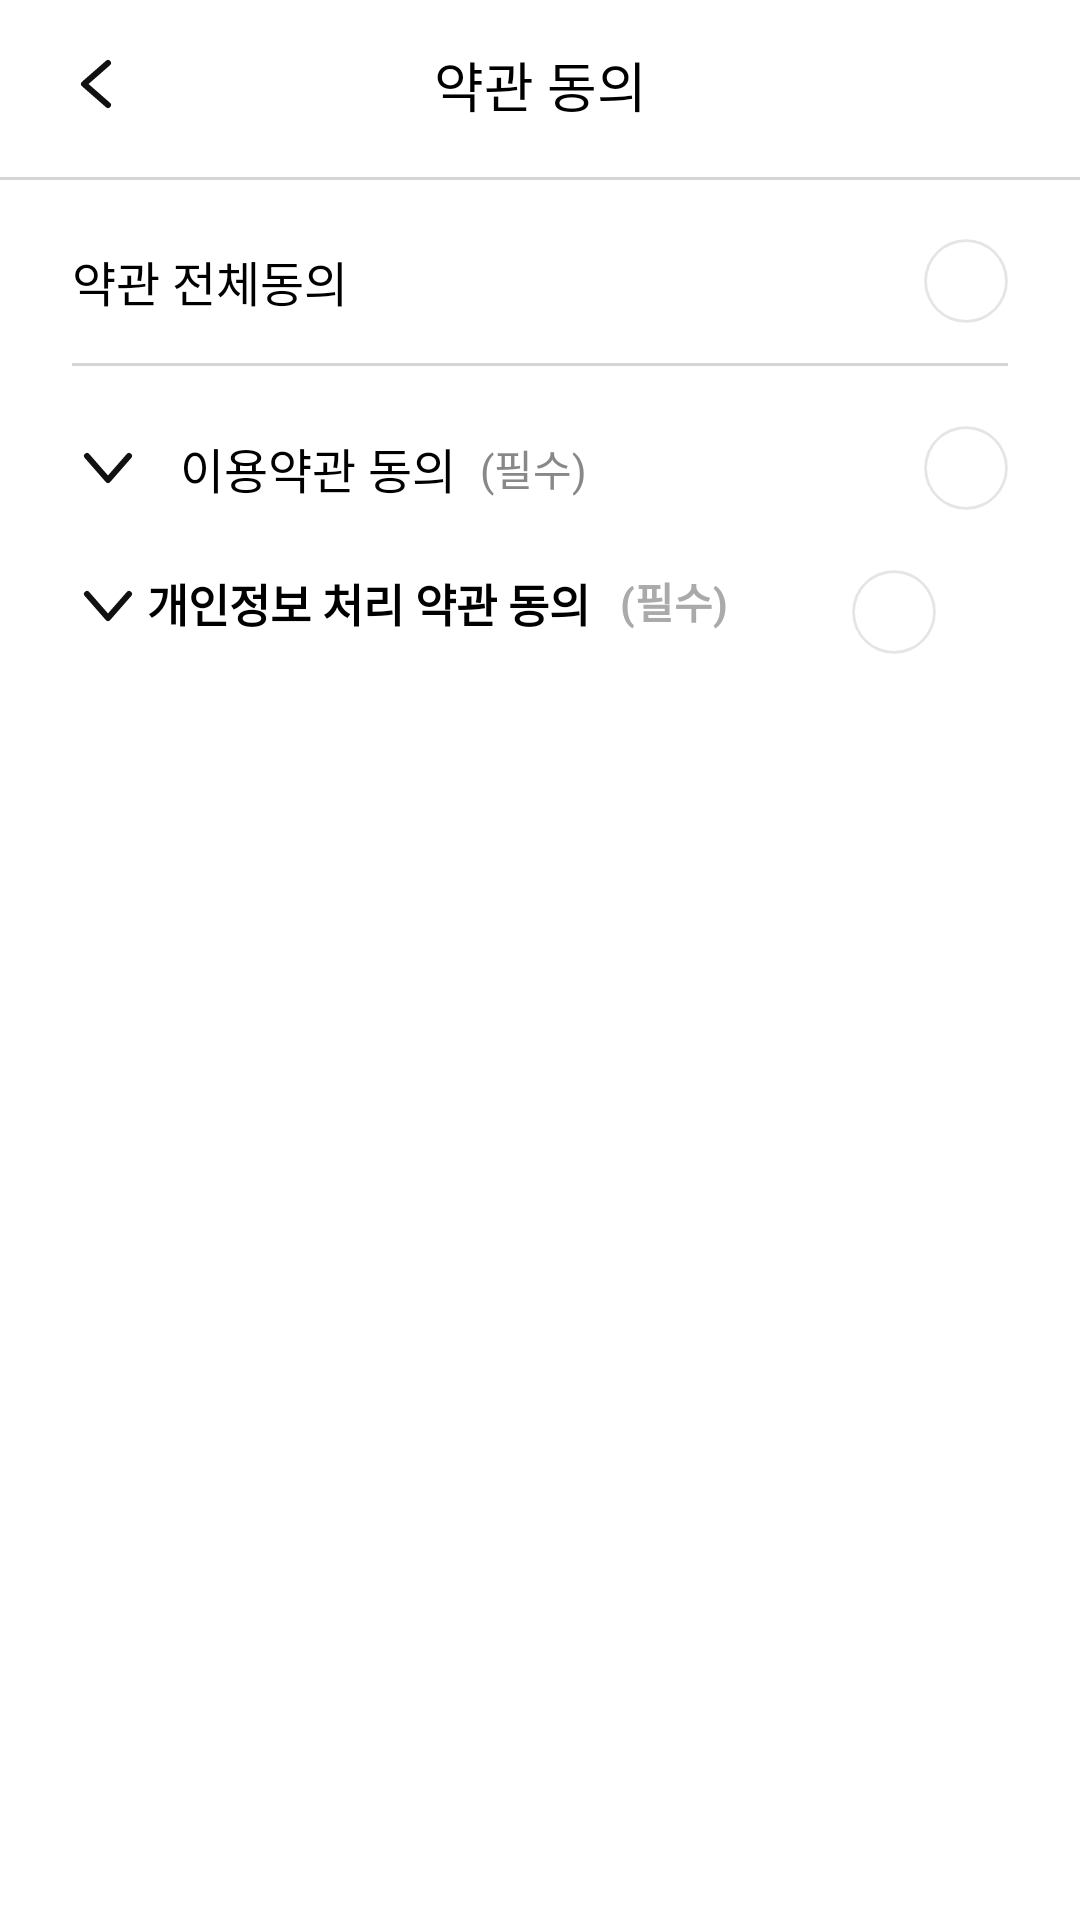

Where to tap for icons on this 1080w x 1920h app screen, as [x,y]:
back: [96,84]
down: [107,468], [107,606]
